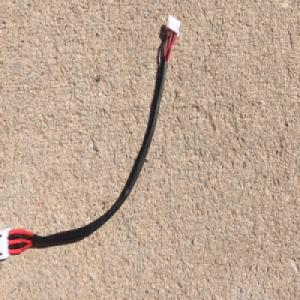Wire: (0, 11, 181, 265)
